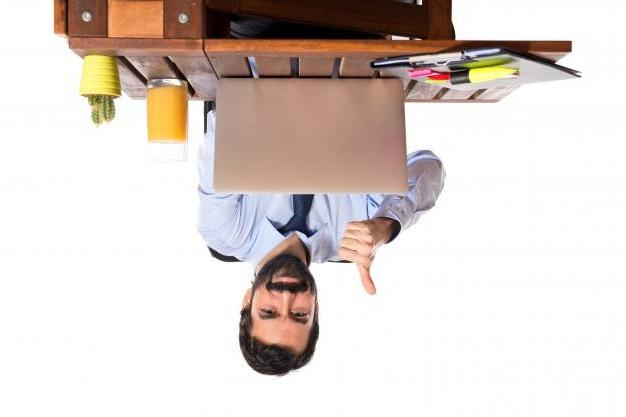thumbsdown: (338, 221, 377, 297)
